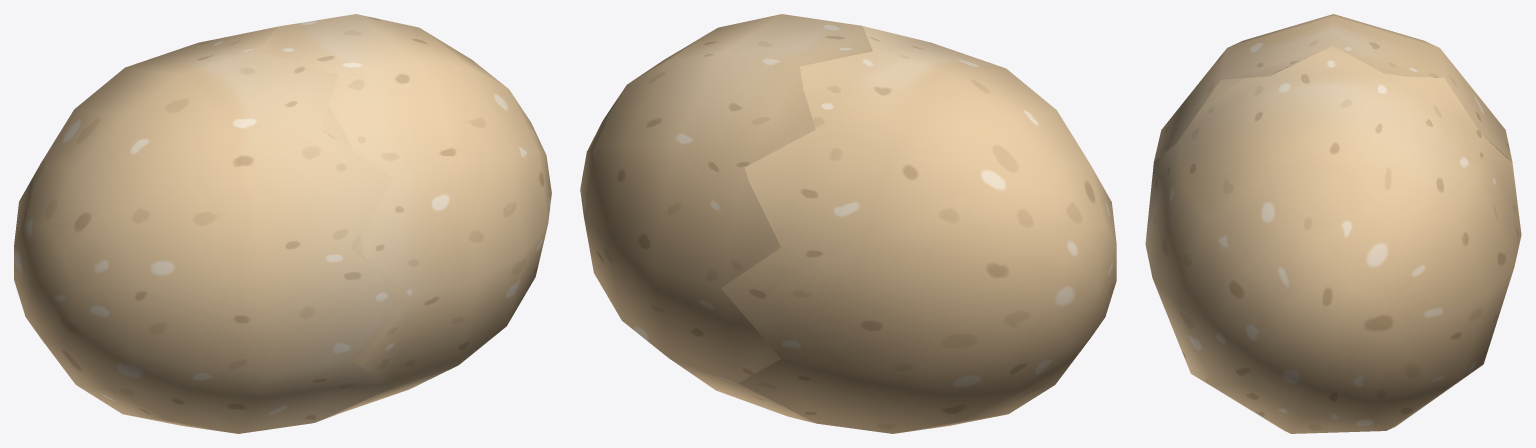
The model's file is dinoeggorange.fbx.
The picture shows the model from 3 angles, left to right: view 1: azimuth 30°, elevation 25°; view 2: azimuth 150°, elevation 25°; view 3: azimuth 270°, elevation 25°; orthographic projection. The views are drawn at different scales.
Parts seen in each view (by area): view 1: pSphere26, pSphere27; view 2: pSphere26, pSphere27; view 3: pSphere27, pSphere26.
Boxes of the visible parts, <box> form: pSphere26: <box>14,26,410,433</box>; pSphere27: <box>259,14,551,422</box>; pSphere26: <box>721,26,1116,433</box>; pSphere27: <box>580,14,872,423</box>; pSphere27: <box>1145,46,1521,433</box>; pSphere26: <box>1146,14,1512,234</box>.
Size of the model in its own units: 2.83 by 1.97 by 1.98.
1 material, 1 textured.
